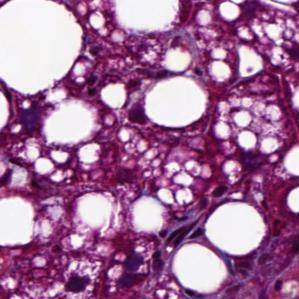inflammation: (116, 243, 170, 288), (56, 265, 99, 297), (0, 164, 16, 190)
